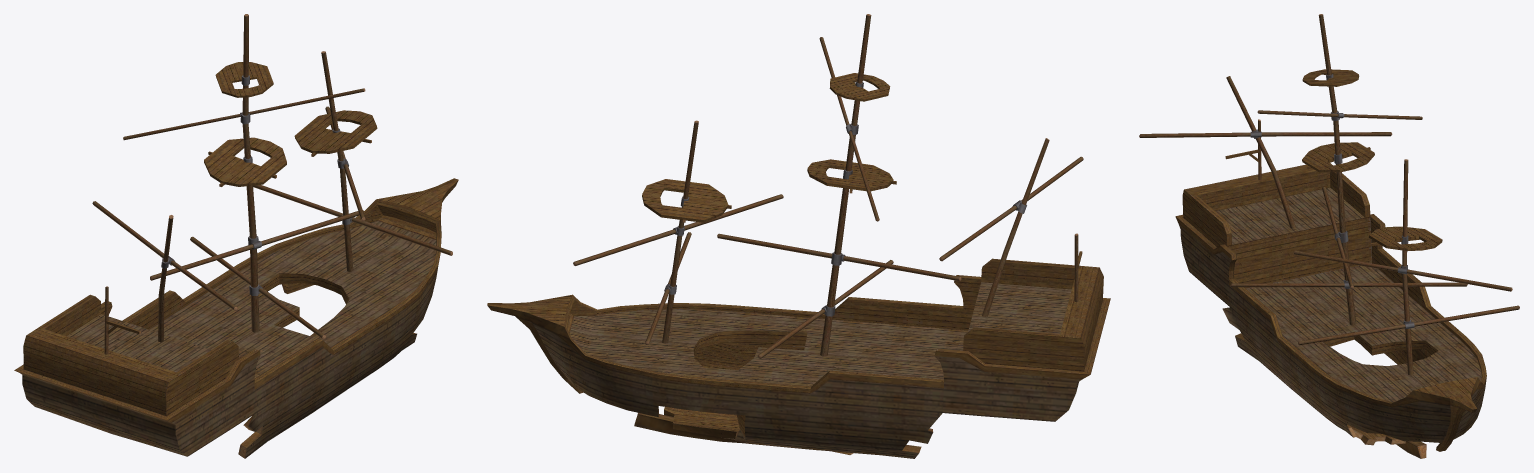
File: GorillaTagPirateShip.fbx
3 renders of one model, left to right at view 1: azimuth 30°, elevation 25°; view 2: azimuth 150°, elevation 25°; view 3: azimuth 270°, elevation 25°, orthographic. The views are drawn at different scales.
Visible parts, largest first — view 1: ShipHull_UW, ShipHull, ShipMetal; view 2: ShipHull_UW, ShipHull, ShipMetal; view 3: ShipHull_UW, ShipHull, ShipMetal.
Part boxes in pixels (left/top/right/bottom): ShipHull_UW: left=22, top=208, right=441, bottom=458; ShipHull: left=14, top=14, right=458, bottom=422; ShipMetal: left=161, top=75, right=352, bottom=295; ShipHull_UW: left=518, top=297, right=1078, bottom=458; ShipHull: left=487, top=14, right=1110, bottom=381; ShipMetal: left=664, top=81, right=1026, bottom=316; ShipHull_UW: left=1178, top=223, right=1486, bottom=458; ShipHull: left=1139, top=14, right=1519, bottom=412; ShipMetal: left=1250, top=74, right=1414, bottom=328.
Size of the model in its own units: 4025 by 3142 by 2847.
